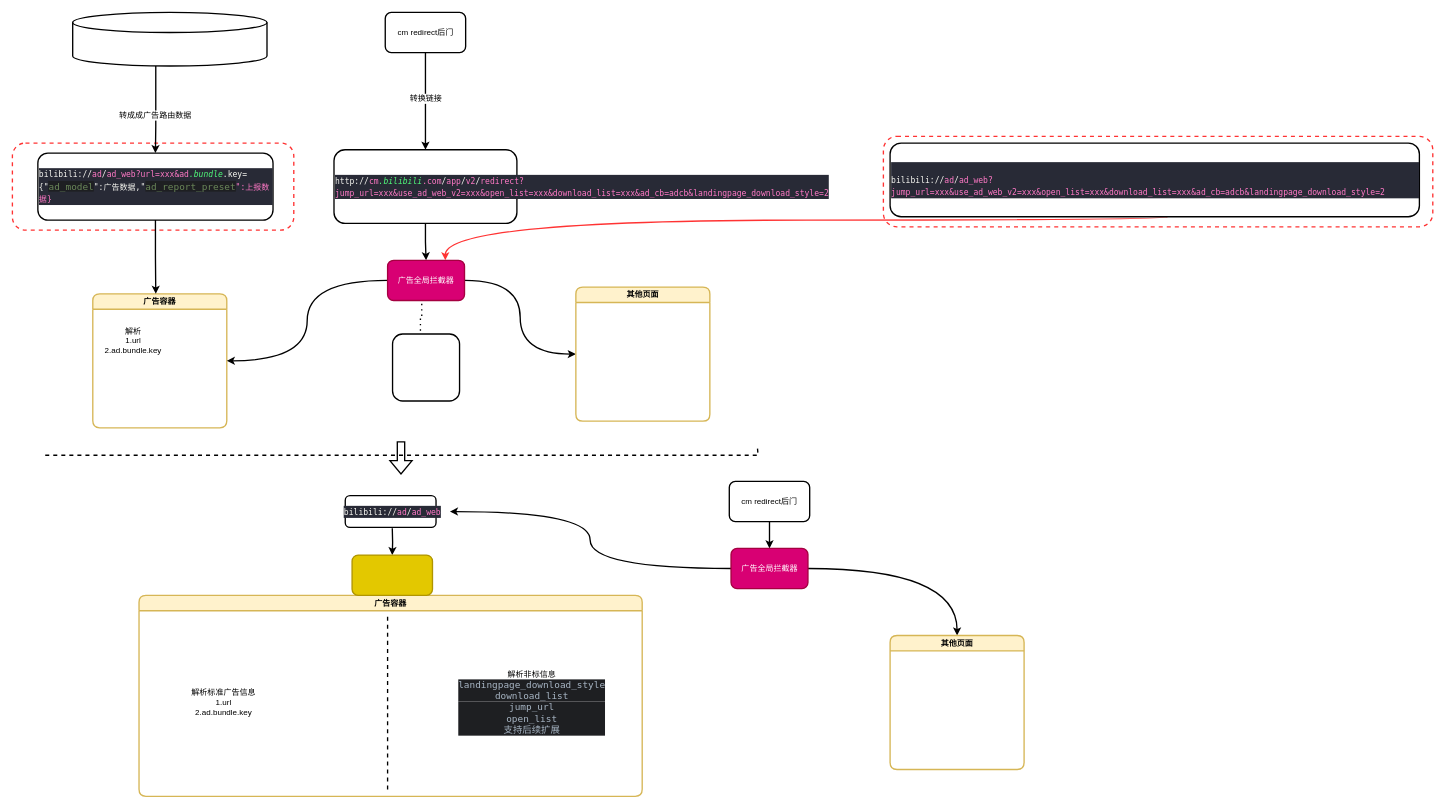
The diagram is 1445 pixels wide and 808 high, and some of its shapes have lost their labels. Here are the shapes that lost their labels. From the top down, the centre of each, then its label:
At point (169, 38): "广告点击跳转".
At point (426, 367): "转换成广告路由".
At point (392, 575): "广告容器拦截器".
